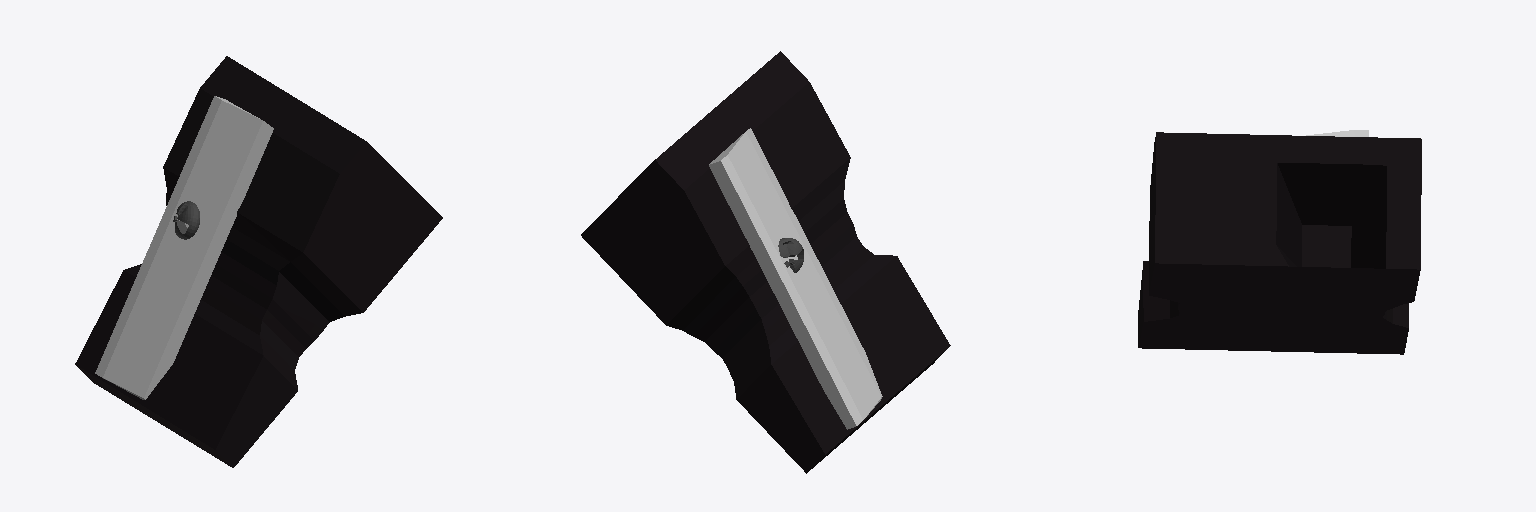
File: sacaPuntas.obj
3 renders of one model, left to right at view 1: azimuth 30°, elevation 25°; view 2: azimuth 150°, elevation 25°; view 3: azimuth 270°, elevation 25°, orthographic.
Parts seen in each view (by area): view 1: Cubo_Cubo.003, Cubo.001_Cubo, Esfera_Esfera.007; view 2: Cubo_Cubo.003, Cubo.001_Cubo, Esfera_Esfera.007; view 3: Cubo_Cubo.003.
Part boxes in pixels (x1,y1,x2,y2): Cubo_Cubo.003: (75,56,442,467); Cubo.001_Cubo: (95,96,273,399); Esfera_Esfera.007: (173,201,199,239); Cubo_Cubo.003: (581,51,950,473); Cubo.001_Cubo: (709,128,882,429); Esfera_Esfera.007: (778,238,803,272); Cubo_Cubo.003: (1138,132,1421,354).
Bounding box in the file's own units: 2.17 × 2.45 × 2.14.